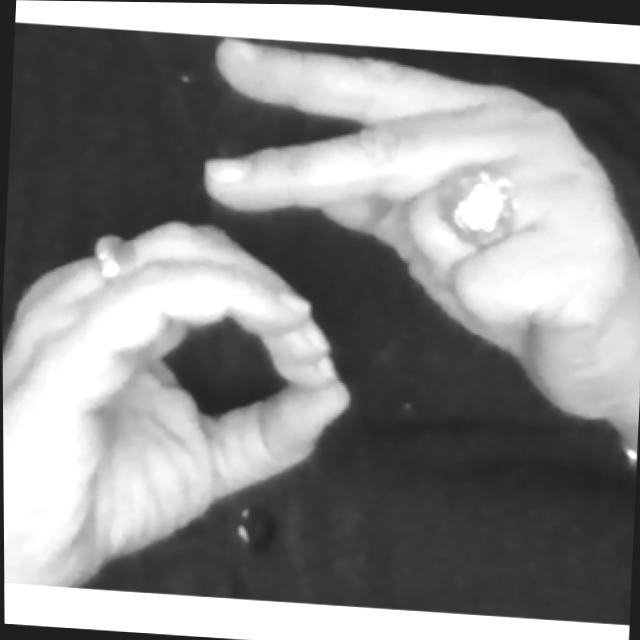O--: (0, 19, 640, 625)
